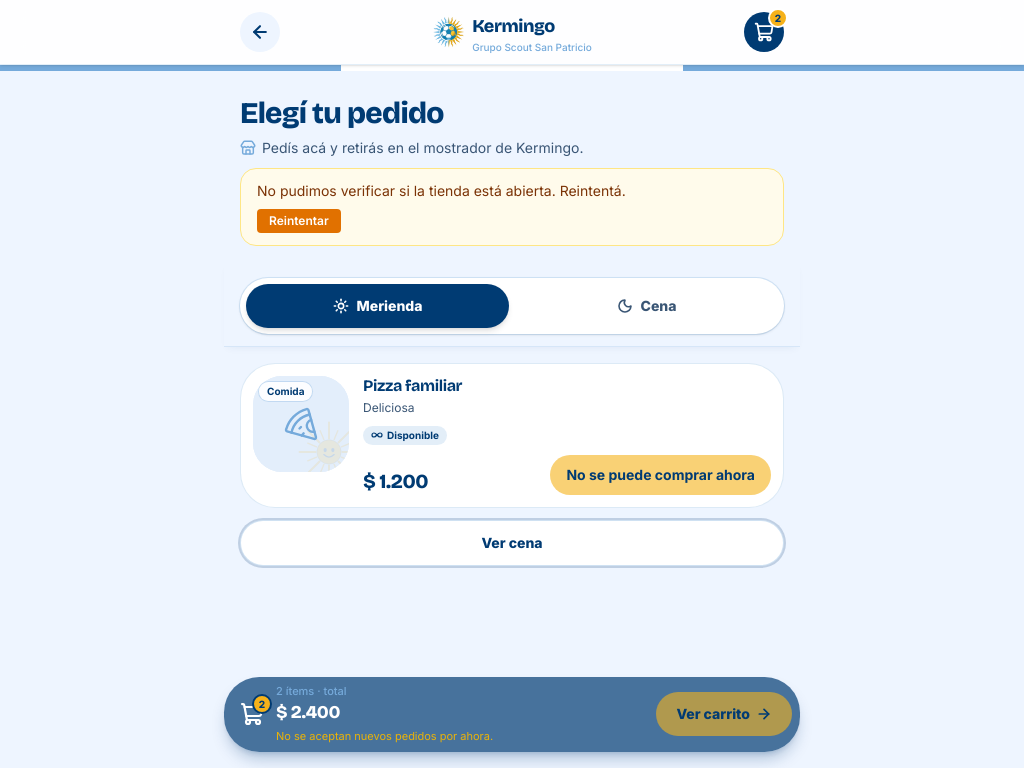
MenuScreen — store config loading/error › Reintentar button triggers refetch for store config
This screenshot has width=1024, height=768.
Expected: the text "No pudimos verificar si la tienda está abierta. Reintentá." is shown, [257,181,626,201]
# Click Reintentar
Click the button "Reintentar". click: coordinates (299, 221)
box: [257,209,341,233]
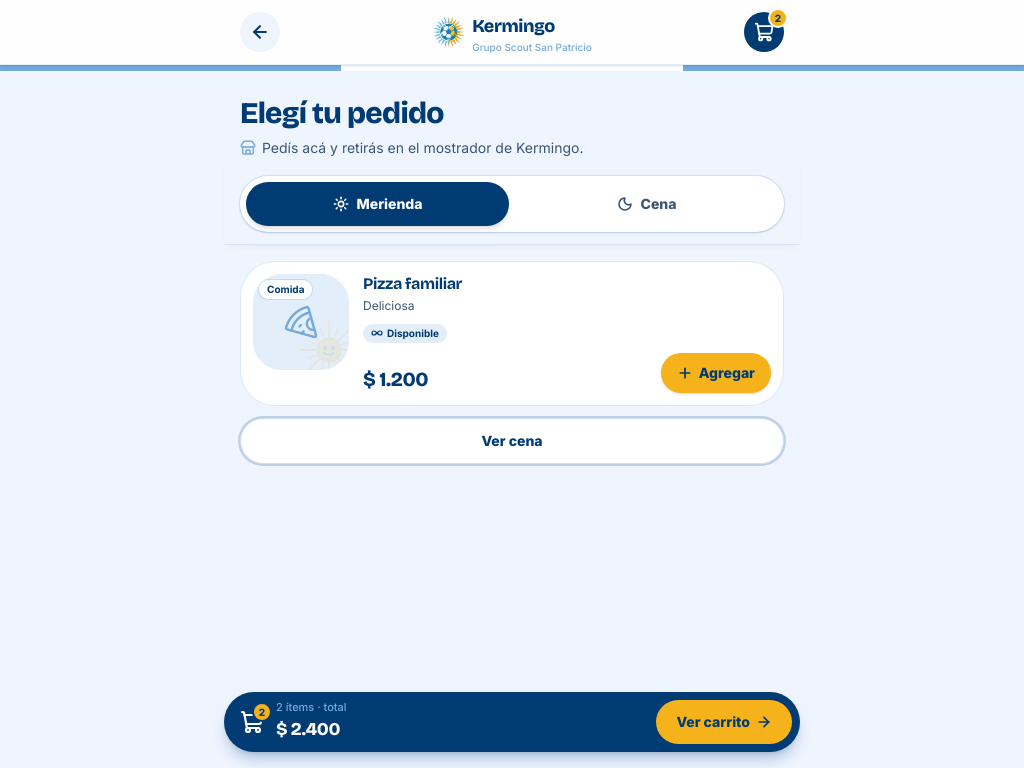
Expected: the heading "Pizza familiar" is shown, [363,274,462,293]
Expected: the text "No pudimos verificar" is gone
